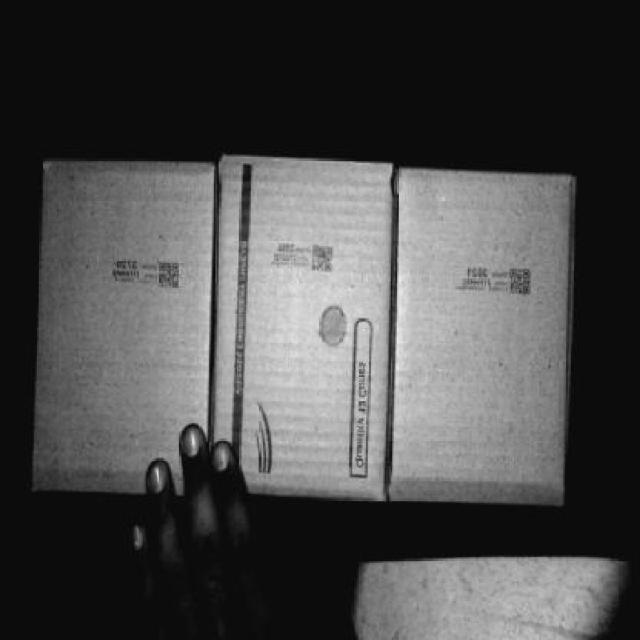cardboxes: (386, 172, 572, 500), (29, 155, 209, 493), (208, 156, 386, 490)
